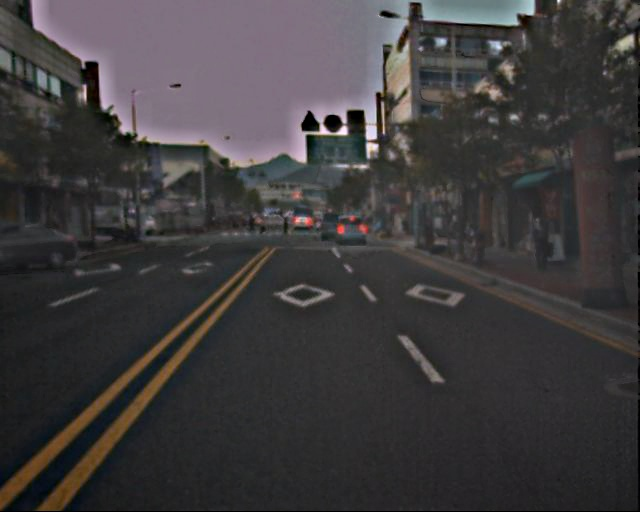person: (526, 215, 550, 272)
